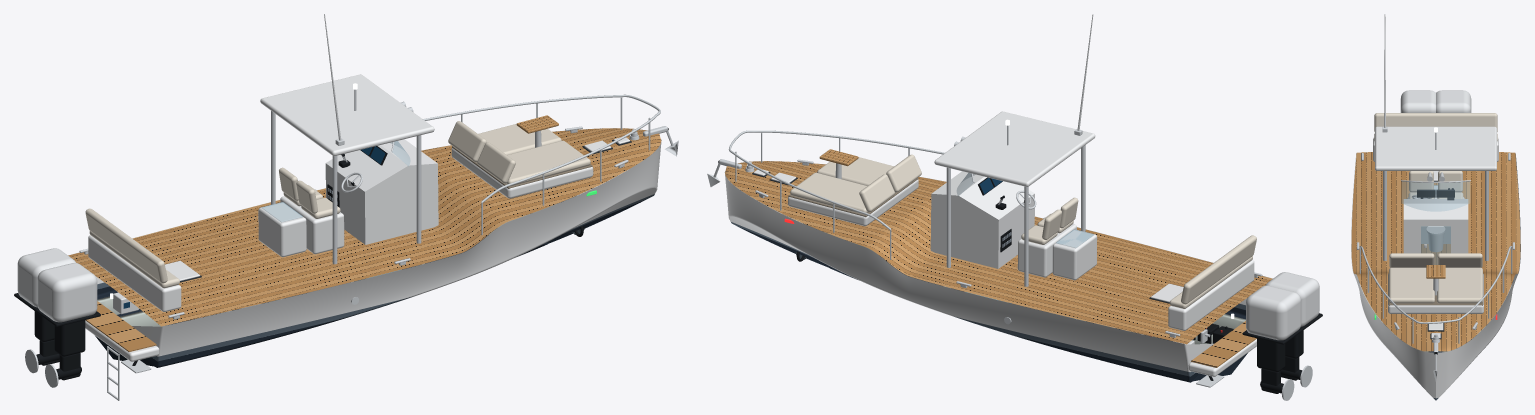
Rendered from marellar-33.glb.
3 renders of one model, left to right at view 1: azimuth 30°, elevation 25°; view 2: azimuth 150°, elevation 25°; view 3: azimuth 270°, elevation 25°, orthographic. The views are drawn at different scales.
Parts seen in each view (by area): view 1: conves, casco, CMP-HT-33, VTR-33-011, CMP-MOT-V10-350, EST-SOL-PROA, EST-SOFA-POPA, VTR-33-013, VTR-33-101, VTR-33-010, guarda, VTR-33-009 (+4 smaller); view 2: conves, casco, CMP-HT-33, VTR-33-011, CMP-MOT-V10-350, EST-SOL-PROA, EST-SOFA-POPA, VTR-33-013, VTR-33-101, VTR-33-010, guarda, VTR-33-009 (+2 smaller); view 3: conves, CMP-HT-33, EST-SOL-PROA, casco, VTR-33-011, VID-PB-33, EST-SOFA-POPA, CMP-MOT-V10-350, guarda, EST-LP-33, VID-PORTA-CONS, VTR-33-009 (+4 smaller).
Boxes of the visible parts, x1,y1,x2,y2 form: conves: (68, 128, 661, 326); casco: (68, 128, 661, 367); CMP-HT-33: (260, 74, 434, 264); VTR-33-011: (325, 139, 438, 244); CMP-MOT-V10-350: (14, 248, 100, 387); EST-SOL-PROA: (448, 121, 592, 188); EST-SOFA-POPA: (85, 208, 179, 288); VTR-33-013: (88, 235, 181, 311); VTR-33-101: (258, 202, 306, 257); VTR-33-010: (85, 301, 159, 361); guarda: (423, 94, 660, 235); VTR-33-009: (451, 148, 593, 198); conves: (725, 161, 1272, 344); casco: (724, 161, 1272, 382); CMP-HT-33: (934, 111, 1095, 286); VTR-33-011: (930, 171, 1034, 268); CMP-MOT-V10-350: (1242, 272, 1322, 400); EST-SOL-PROA: (788, 154, 921, 217); EST-SOFA-POPA: (1169, 235, 1256, 308); VTR-33-013: (1168, 260, 1254, 330); VTR-33-101: (1052, 229, 1097, 280); VTR-33-010: (1188, 321, 1256, 376); guarda: (728, 130, 944, 259); VTR-33-009: (787, 179, 918, 226); conves: (1351, 152, 1520, 351); CMP-HT-33: (1375, 126, 1496, 260); EST-SOL-PROA: (1388, 253, 1483, 305); casco: (1351, 153, 1520, 400); VTR-33-011: (1403, 199, 1468, 253); VID-PB-33: (1401, 180, 1470, 211); EST-SOFA-POPA: (1374, 113, 1497, 141); CMP-MOT-V10-350: (1400, 90, 1471, 112); guarda: (1359, 246, 1512, 343); EST-LP-33: (1408, 171, 1463, 198); VID-PORTA-CONS: (1421, 226, 1450, 264); VTR-33-009: (1388, 274, 1483, 313).
Size of the model in its own units: 12.33 by 6.05 by 3.4.
198 materials, 4 textured.
